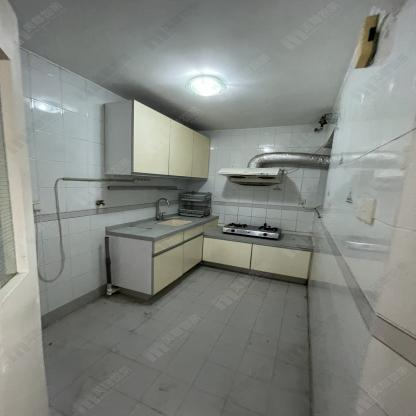Cupboard: (108, 224, 314, 296), (107, 99, 214, 179)
Exhaust Hood: (219, 152, 330, 185)
Faucet: (155, 195, 172, 222)
Sink: (159, 219, 197, 227)
Stove: (224, 223, 286, 239)
